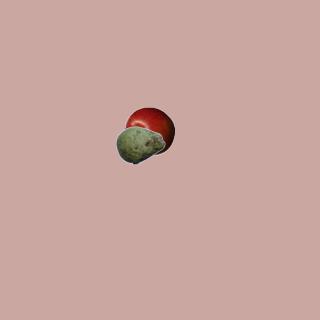Apple Braeburn: (124, 106, 174, 156)
Pear Stone: (115, 120, 165, 170)
